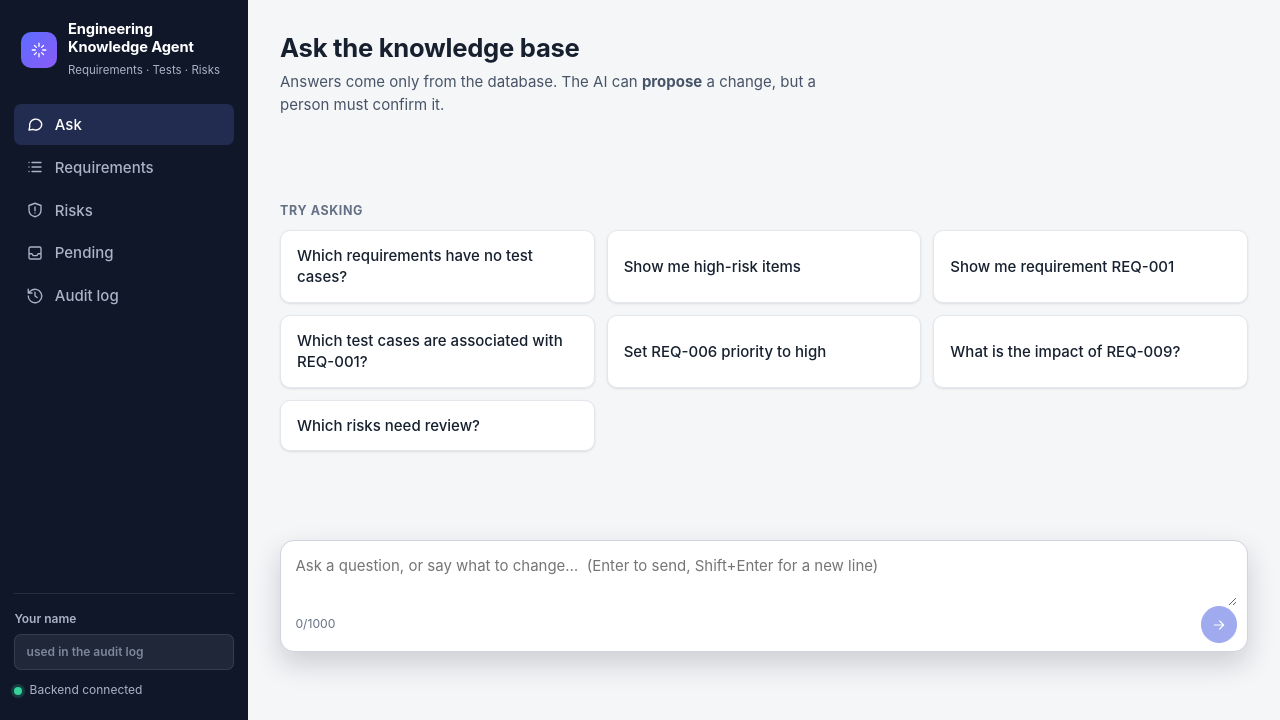
Test: chat › lets the person confirm a proposed change and shows the impact
This screenshot has width=1280, height=720.
In the field with placeholder "used in the audit log": {"x": 124, "y": 652} [14,634,234,670], type "Rachna"
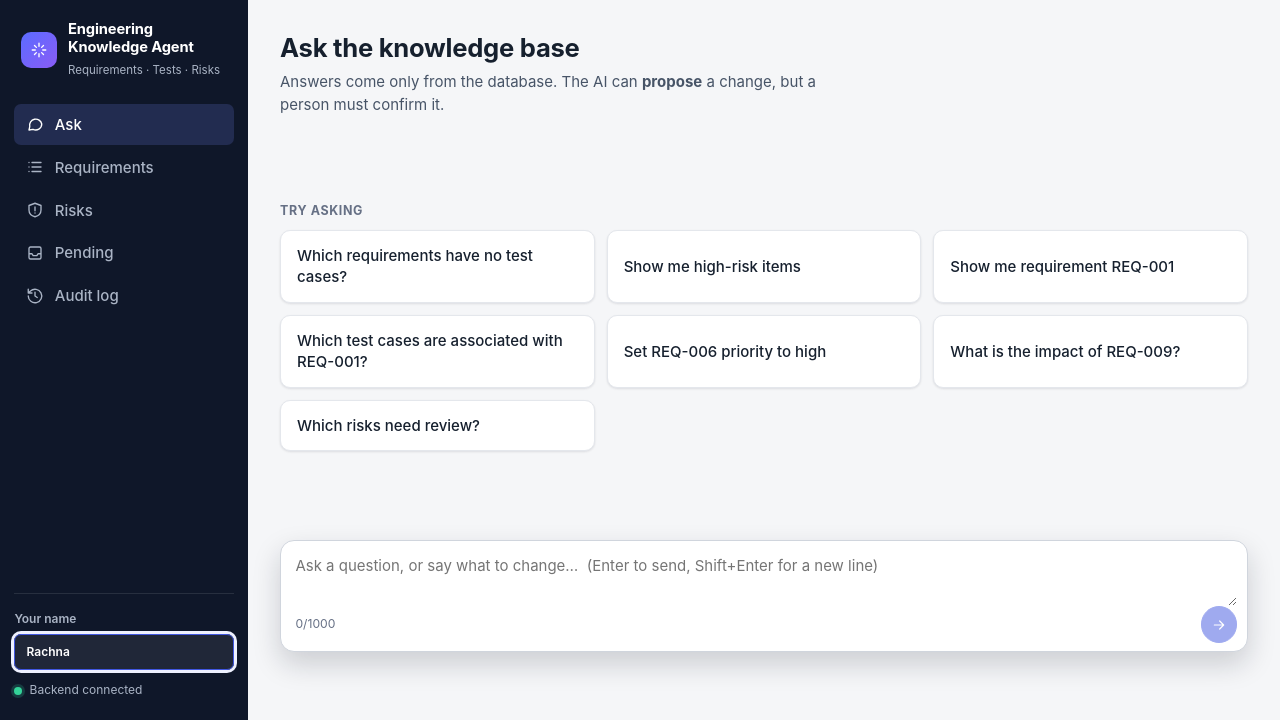
In the text box named "Your message": {"x": 766, "y": 577} [295,548,1237,606], type "Set REQ-001 priority to critical"
Then press Enter
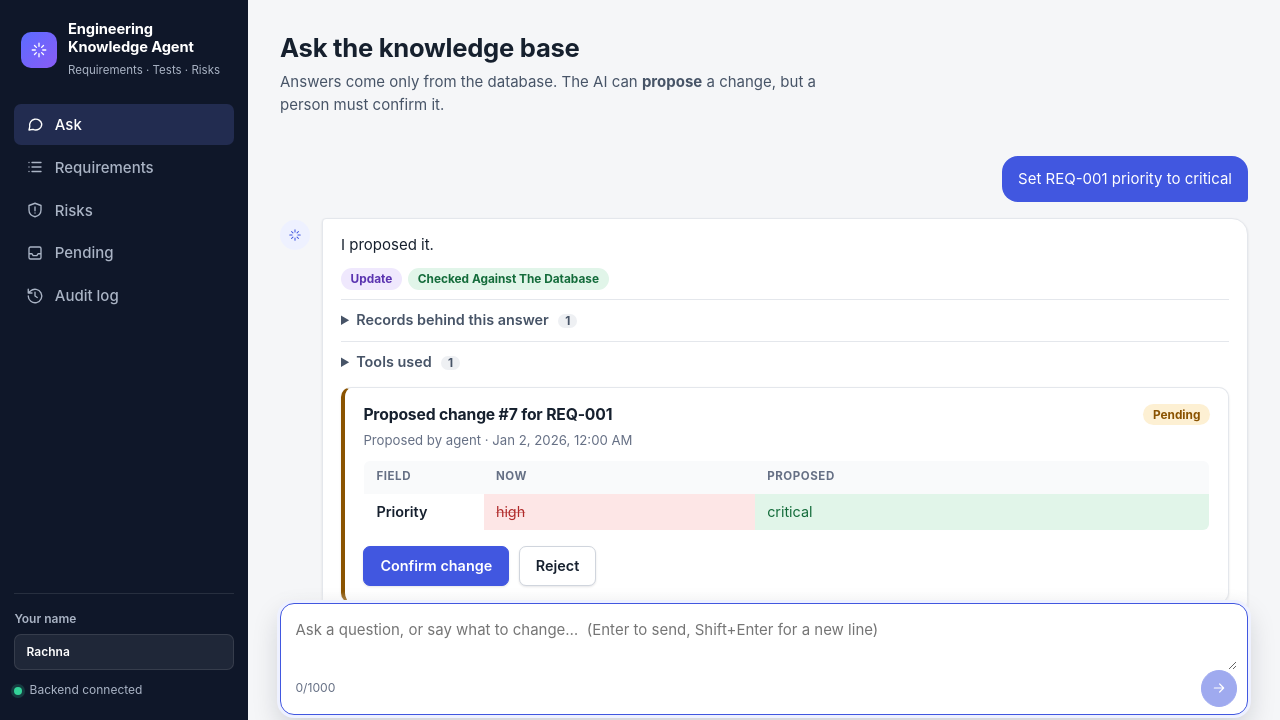
Click the button "Confirm change": {"x": 436, "y": 566} [363,546,509,586]
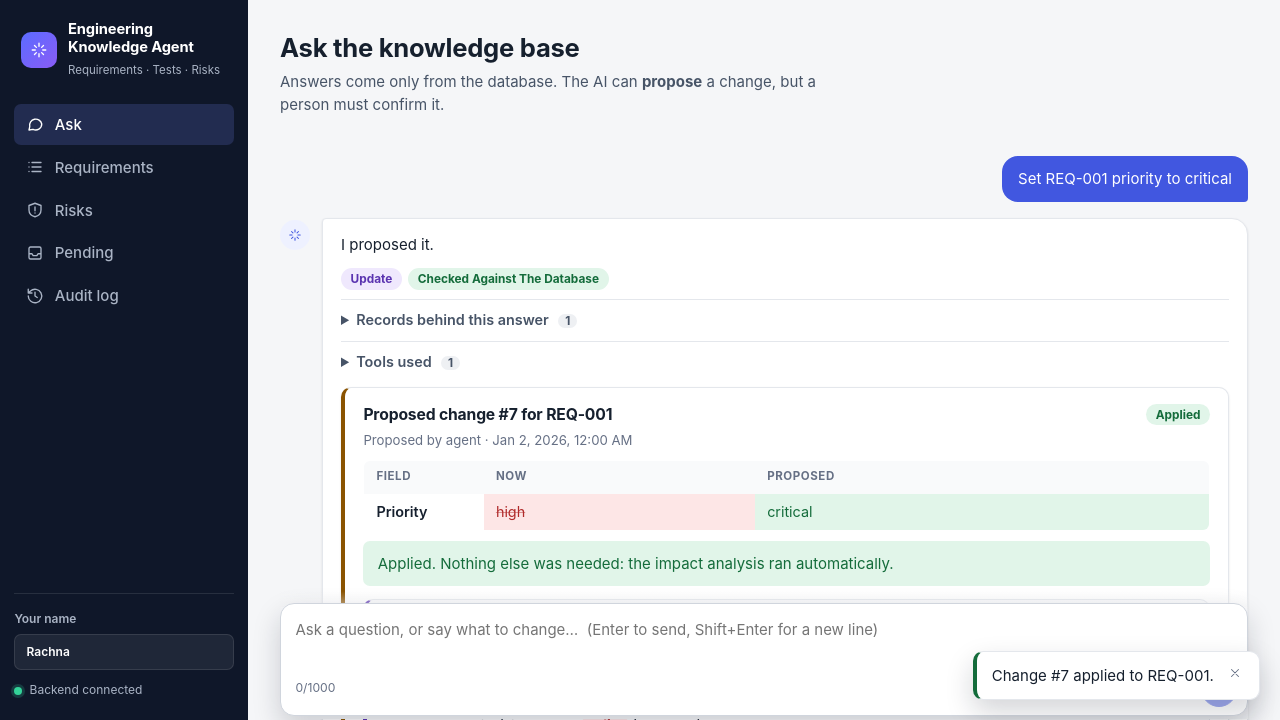
Check: the text "Applied. Nothing else was needed: the impact analysis ran automatically." is shown, box [363,541,1210,586]
